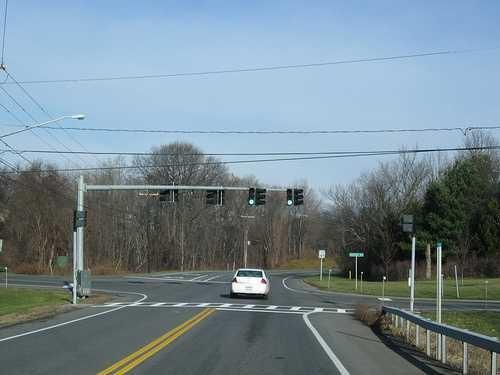green: (248, 187, 255, 205), (287, 187, 292, 206)
